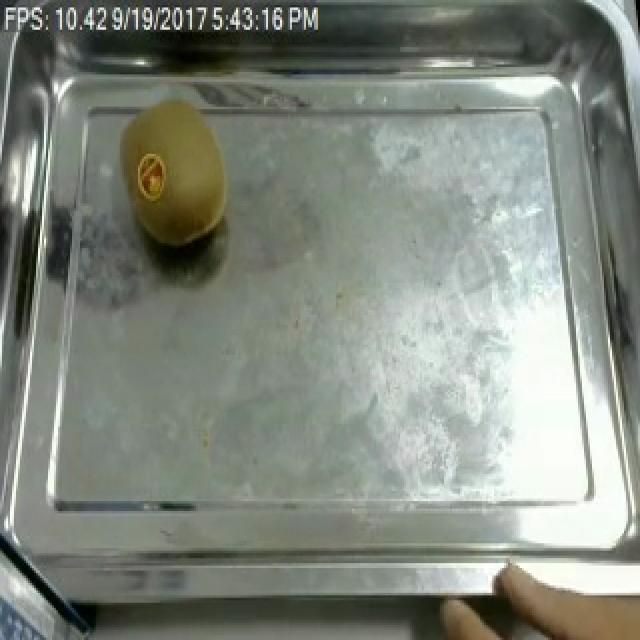Fruit: (116, 94, 242, 258)
